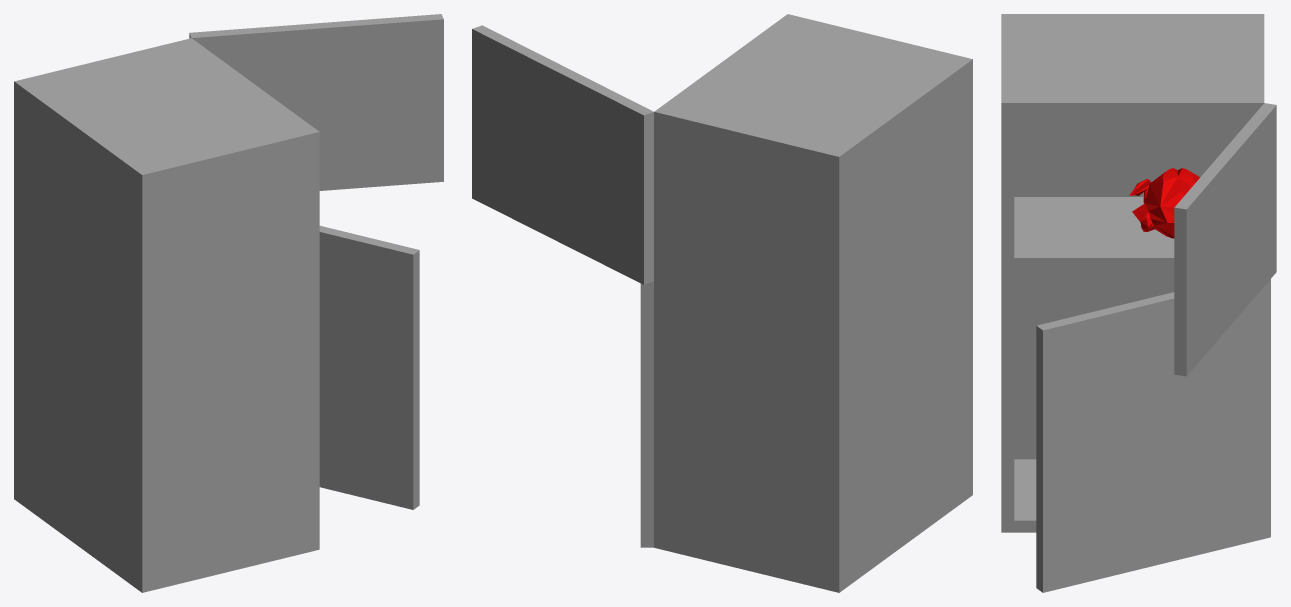
The model's file is SM_Fridge_Open_Turkey.fbx.
3 views of the same model, side by side, from view 1: azimuth 30°, elevation 25°; view 2: azimuth 150°, elevation 25°; view 3: azimuth 270°, elevation 25° (orthographic). The views are drawn at different scales.
Visible parts, largest first — view 1: SM_Fridge_Open_Turkey; view 2: SM_Fridge_Open_Turkey; view 3: SM_Fridge_Open_Turkey.
Boxes of the visible parts, x1=… form: SM_Fridge_Open_Turkey: x1=14, y1=14, x2=443, y2=592; SM_Fridge_Open_Turkey: x1=472, y1=14, x2=972, y2=592; SM_Fridge_Open_Turkey: x1=1001, y1=14, x2=1276, y2=592.
Size of the model in its own units: 176 by 180 by 105.
